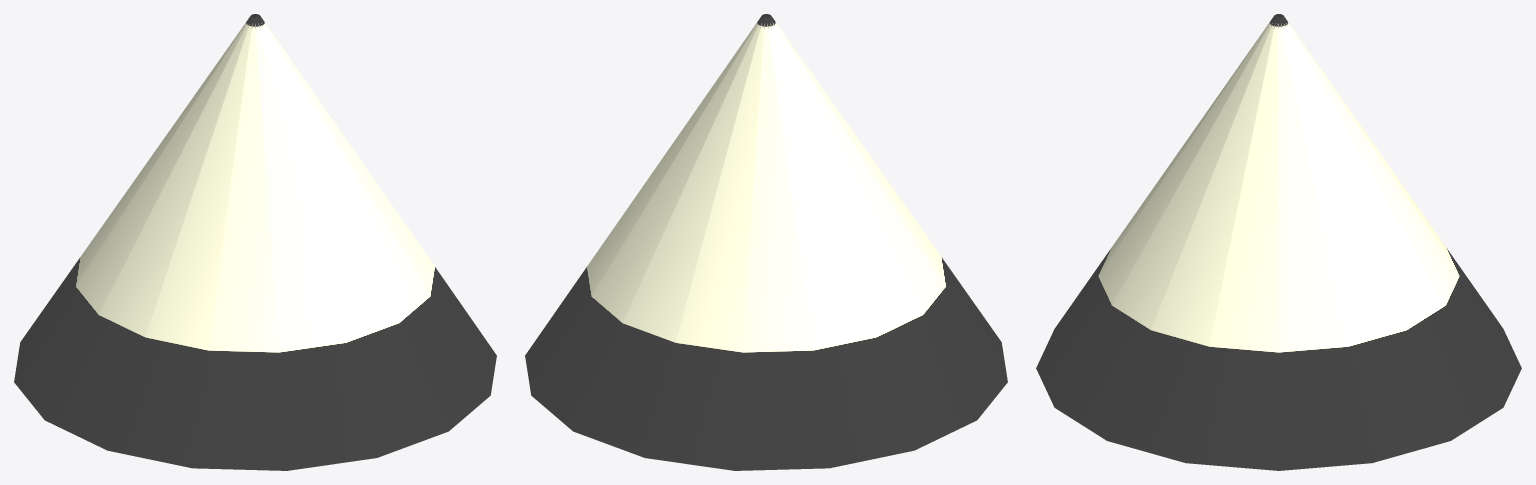
File: ceiling_lamp_mp_1_1_fake_light_1.glb
The picture shows the model from 3 angles, left to right: view 1: azimuth 30°, elevation 25°; view 2: azimuth 150°, elevation 25°; view 3: azimuth 270°, elevation 25°; orthographic projection.
Parts seen in each view (by area): view 1: ceiling_lamp_mp_1_1_fake_light_1; view 2: ceiling_lamp_mp_1_1_fake_light_1; view 3: ceiling_lamp_mp_1_1_fake_light_1.
Part boxes in pixels (x1,y1,x2,y2): ceiling_lamp_mp_1_1_fake_light_1: (14, 14, 496, 470); ceiling_lamp_mp_1_1_fake_light_1: (525, 14, 1007, 470); ceiling_lamp_mp_1_1_fake_light_1: (1036, 14, 1521, 470).
Bounding box in the file's own units: 3 × 2.4 × 3.
Materials: 1 (1 with a texture image).
